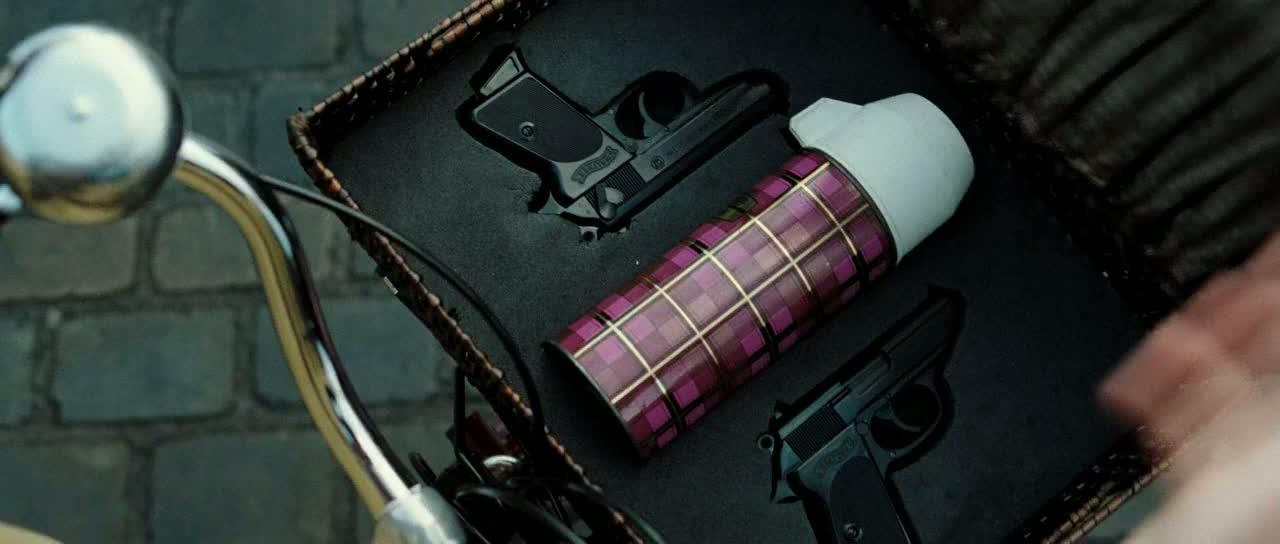gun: (465, 12, 805, 240), (768, 262, 1050, 522)
